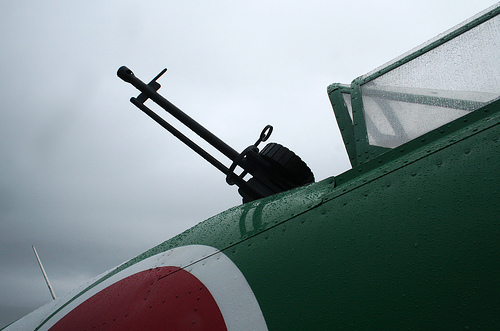rifle: (112, 57, 292, 187)
